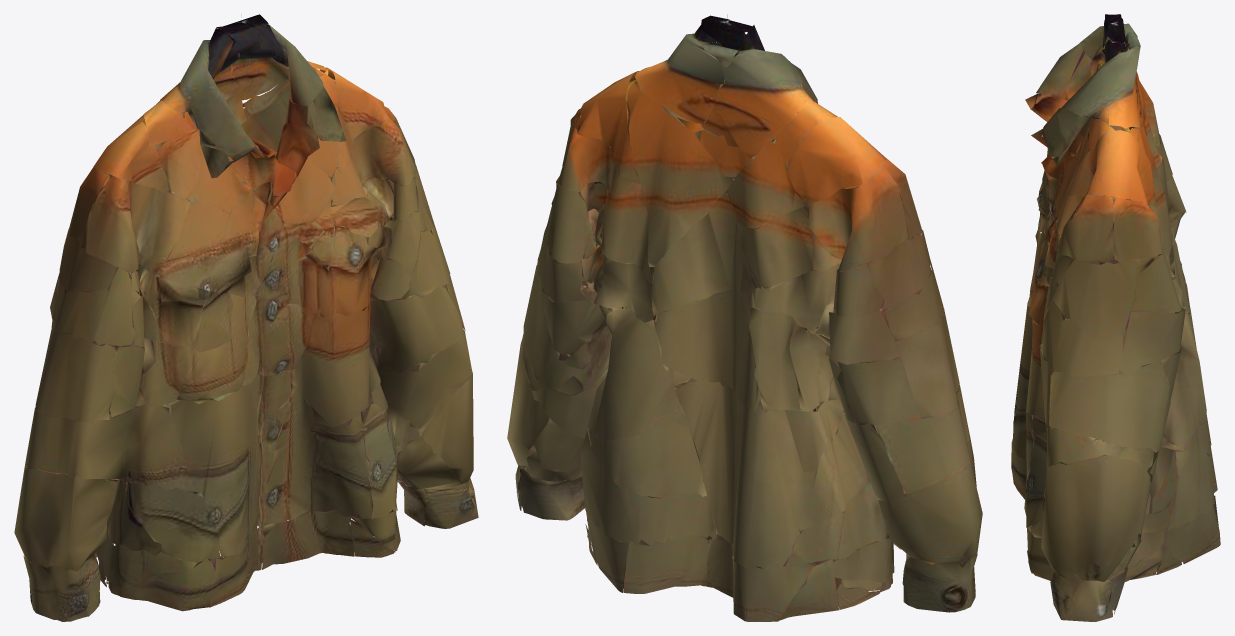
Rendered from Mine_hanging_jacket.glb.
3 renders of one model, left to right at view 1: azimuth 30°, elevation 25°; view 2: azimuth 150°, elevation 25°; view 3: azimuth 270°, elevation 25°, orthographic. The views are drawn at different scales.
Visible parts, largest first — view 1: Mesh_0; view 2: Mesh_0; view 3: Mesh_0.
Boxes of the visible parts, x1,y1,x2,y2 form: Mesh_0: [14, 14, 478, 621]; Mesh_0: [507, 14, 982, 621]; Mesh_0: [1011, 14, 1220, 621].
Size of the model in its own units: 0.8219 by 0.9212 by 0.3442.
Materials: 1 (1 with a texture image).
